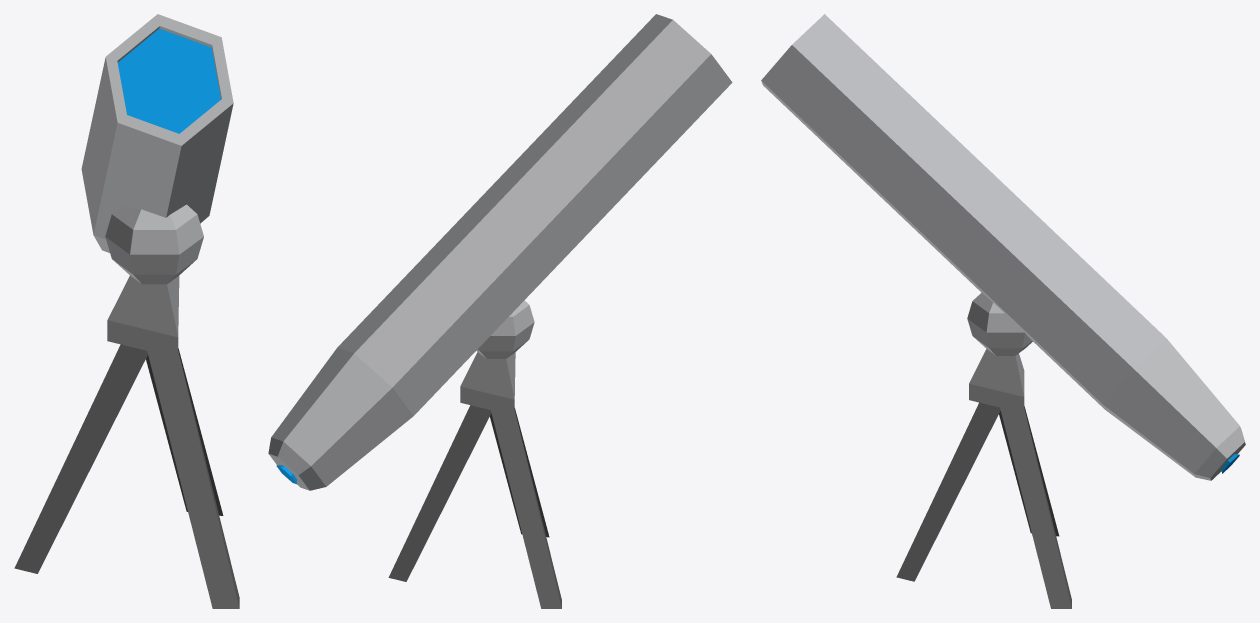
File: Teleskope.fbx
The picture shows the model from 3 angles, left to right: view 1: azimuth 30°, elevation 25°; view 2: azimuth 150°, elevation 25°; view 3: azimuth 270°, elevation 25°; orthographic projection. The views are drawn at different scales.
Parts seen in each view (by area): view 1: Cylinder, Cube.001, Cube.002, Cube; view 2: Cylinder, Cube.002, Cube, Cube.001; view 3: Cylinder, Cube, Cube.001, Cube.002.
Boxes of the visible parts, x1,y1,x2,y2 form: Cylinder: (81, 14, 233, 358); Cube.001: (147, 351, 239, 608); Cube.002: (14, 344, 147, 573); Cube: (146, 348, 223, 515); Cylinder: (268, 14, 732, 490); Cube.002: (491, 410, 561, 608); Cube: (388, 404, 491, 581); Cube.001: (490, 408, 549, 537); Cylinder: (761, 14, 1245, 480); Cube: (1000, 407, 1071, 608); Cube.001: (896, 402, 1000, 581); Cube.002: (999, 406, 1059, 536).
Bounding box in the file's own units: 274 × 168 × 321.
